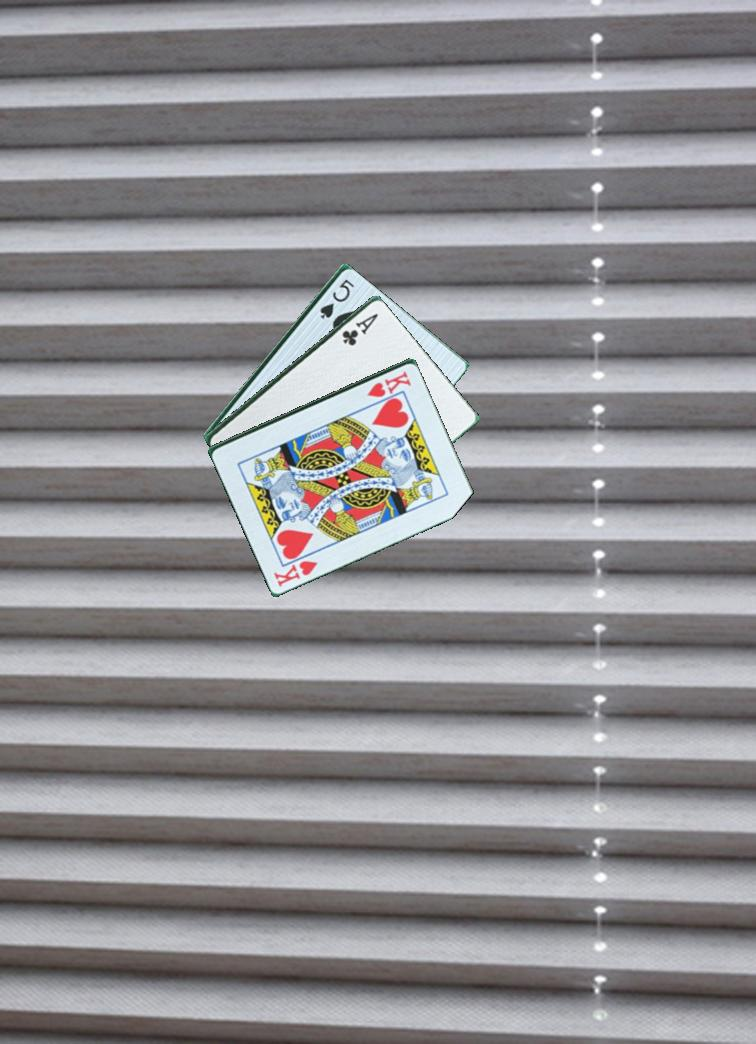5s: (316, 270, 357, 321)
ac: (338, 309, 381, 348)
kh: (362, 367, 413, 400), (270, 556, 321, 589)
